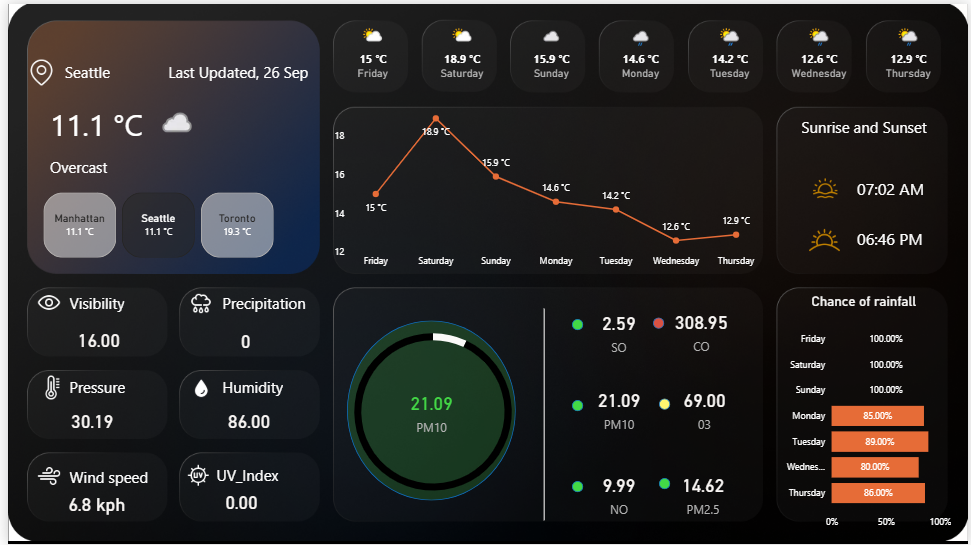

The dashboard page shown, as its layout file describes it:
{"tool":"powerbi","page":{"name":"Page 1","canvas":[1280,720],"ordinal":0},"visuals":[{"type":"shape","box":[452.5,422.5,225,240],"z":0},{"type":"advancedSlicerVisual","fields":{"Values":["Location.location.name"]},"box":[22.5,245,357.5,97.5],"z":1000},{"type":"shape","box":[55,115,222.5,85],"z":2000},{"type":"shape","box":[55,190,147.5,55],"z":3000},{"type":"shape","box":[75,75,147.5,27.5],"z":4000},{"type":"shape","box":[167.5,70,232.5,40],"z":5000},{"type":"image","box":[22.5,65,45,50],"z":6000},{"type":"cardVisual","fields":{"Data":["Min(Current.current.condition.icon)"]},"box":[167.5,110,110,100],"z":7000},{"type":"image","box":[32.5,372.5,45,52.5],"z":8000},{"type":"shape","box":[82.5,377.5,120,40],"z":9000},{"type":"shape","box":[82.5,490,120,40],"z":10000},{"type":"shape","box":[285,377.5,120,40],"z":11000},{"type":"shape","box":[285,490,120,40],"z":12000},{"type":"shape","box":[82.5,610,120,40],"z":13000},{"type":"shape","box":[277.5,607.5,120,40],"z":14000},{"type":"image","box":[230,377.5,55,42.5],"z":15000},{"type":"image","box":[32.5,490,55,42.5],"z":16000},{"type":"image","box":[240,492.5,35,40],"z":17000},{"type":"image","box":[25,607.5,57.5,42.5],"z":18000},{"type":"image","box":[230,607.5,47.5,40],"z":19000},{"type":"card","fields":{"Values":["_Measures.humidity"]},"box":[274.3,528.3,93.9,55.2],"z":20000},{"type":"card","fields":{"Values":["_Measures.pressure"]},"box":[64.4,521,95.7,71.8],"z":21000},{"type":"card","fields":{"Values":["Sum(Current.current.precip_in)"]},"box":[285.3,419.7,60.7,58.9],"z":22000},{"type":"card","fields":{"Values":["_Measures.visibility"]},"box":[82.8,417.9,77.3,58.9],"z":23000},{"type":"card","fields":{"Values":["_Measures.wind_speed"]},"box":[71.8,629.6,92,71.8],"z":24000},{"type":"card","fields":{"Values":["Sum(Current.current.uv)"]},"box":[276.1,627.7,70,71.8],"z":25000},{"type":"advancedSlicerVisual","fields":{"Values":["Forecast_day.Day_name"]},"box":[425.2,22.3,839.3,96.6],"z":26000},{"type":"lineChart","fields":{"Y":["Sum(Forecast_day.forecast.forecastday.day.avgtemp_c)"],"Category":["Forecast_day.Day_name"]},"box":[430.8,133.7,577.5,226.5],"z":27000},{"type":"shape","box":[1058.4,137.4,206.1,52],"z":28000},{"type":"shape","box":[1132.7,215.4,117,59.4],"z":29000},{"type":"shape","box":[1132.7,282.2,111.4,59.4],"z":30000},{"type":"image","box":[1058.4,224.7,63.1,42.7],"z":31000},{"type":"image","box":[1056.6,282.2,65,65],"z":32000},{"type":"hundredPercentStackedBarChart","title":"Chance of rainfall","fields":{"Y":["Sum(Forecast_day.forecast.forecastday.day.daily_chance_of_rain)","Current.left_rain"],"Category":["Forecast_day.Day_name"]},"box":[1020,385,242.5,322.5],"z":33000},{"type":"card","fields":{"Values":["_Measures.CO"]},"box":[877.5,397.5,92.5,72.5],"z":34000},{"type":"card","fields":{"Values":["_Measures.Ozone_level"]},"box":[882.5,502.5,92.5,72.5],"z":35000},{"type":"card","fields":{"Values":["_Measures.PM_two"]},"box":[880,615,92.5,72.5],"z":36000},{"type":"card","fields":{"Values":["_Measures.SO"]},"box":[767.5,400,92.5,72.5],"z":37000},{"type":"card","fields":{"Values":["_Measures.PM_TEN"]},"box":[767.5,502.5,92.5,72.5],"z":38000},{"type":"card","fields":{"Values":["_Measures.NO"]},"box":[767.5,615,92.5,72.5],"z":39000},{"type":"shape","box":[752.5,420,15,15],"z":40000},{"type":"shape","box":[752.5,527.5,15,15],"z":41000},{"type":"shape","box":[752.5,635,15,15],"z":42000},{"type":"shape","box":[860,417.5,15,15],"z":43000},{"type":"shape","box":[867.5,525,15,15],"z":44000},{"type":"shape","box":[867.5,632.5,15,15],"z":45000},{"type":"shape","box":[640,405,150,282.5],"z":46000},{"type":"card","fields":{"Values":["_Measures.PM_TEN"]},"box":[517.5,505,92.5,72.5],"z":47000},{"type":"donutChart","fields":{"Y":["_Measures.PM_TEN","_Measures.left_pm_10"]},"box":[430,395,272.5,295],"z":48000}]}

Visuals, with their boxes in screenshot pixels (x1, y1, x2, y2), scaled from the page's 1280x720 canvas onto the 971x545 screenshot:
shape: 343/320/514/501
advancedSlicerVisual - Location.location.name: 17/185/288/259
shape: 42/87/211/151
shape: 42/144/154/185
shape: 57/57/169/78
shape: 127/53/303/83
image: 17/49/51/87
cardVisual - Min(Current.current.condition.icon): 127/83/211/159
image: 25/282/59/322
shape: 63/286/154/316
shape: 63/371/154/401
shape: 216/286/307/316
shape: 216/371/307/401
shape: 63/462/154/492
shape: 211/460/302/490
image: 174/286/216/318
image: 25/371/66/403
image: 182/373/209/403
image: 19/460/63/492
image: 174/460/211/490
card - _Measures.humidity: 208/400/279/442
card - _Measures.pressure: 49/394/121/449
card - Sum(Current.current.precip_in): 216/318/262/362
card - _Measures.visibility: 63/316/121/361
card - _Measures.wind_speed: 54/477/124/531
card - Sum(Current.current.uv): 209/475/263/529
advancedSlicerVisual - Forecast_day.Day_name: 323/17/959/90
lineChart - Sum(Forecast_day.forecast.forecastday.day.avgtemp_c) x Forecast_day.Day_name: 327/101/765/273
shape: 803/104/959/143
shape: 859/163/948/208
shape: 859/214/944/259
image: 803/170/851/202
image: 802/214/851/263
"Chance of rainfall" hundredPercentStackedBarChart: 774/291/958/536
card - _Measures.CO: 666/301/736/356
card - _Measures.Ozone_level: 669/380/740/435
card - _Measures.PM_two: 668/466/738/520
card - _Measures.SO: 582/303/652/358
card - _Measures.PM_TEN: 582/380/652/435
card - _Measures.NO: 582/466/652/520
shape: 571/318/582/329
shape: 571/399/582/411
shape: 571/481/582/492
shape: 652/316/664/327
shape: 658/397/669/409
shape: 658/479/669/490
shape: 486/307/599/520
card - _Measures.PM_TEN: 393/382/463/437
donutChart - _Measures.PM_TEN x _Measures.left_pm_10: 326/299/533/522
